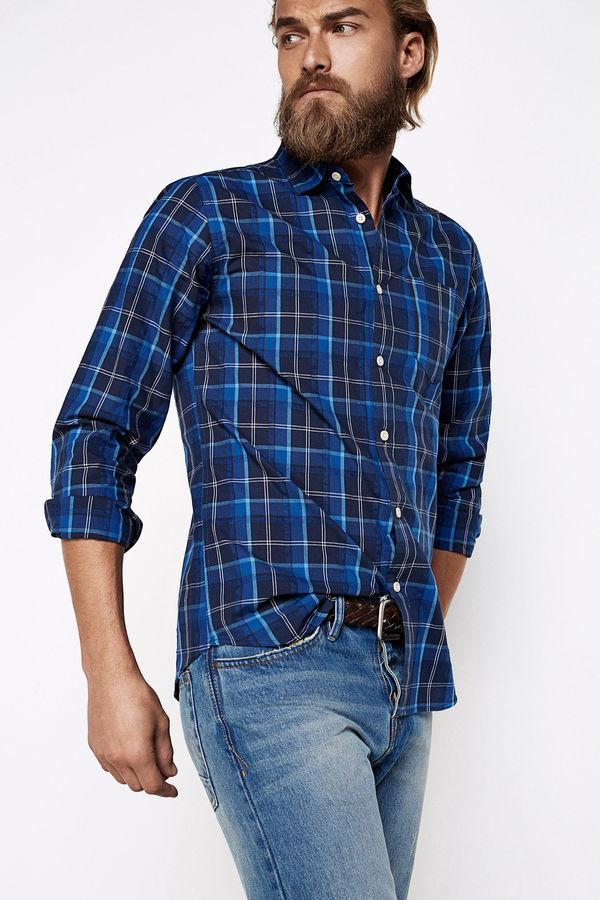teeshirt: (40, 125, 511, 758)
